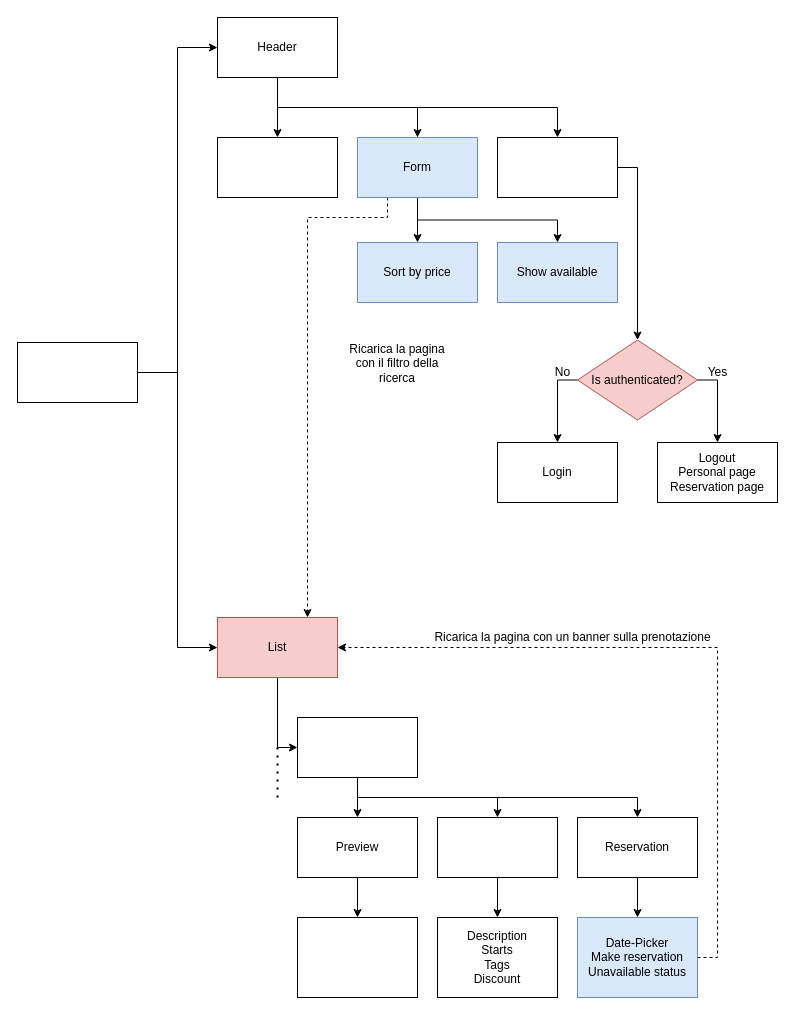
Image size: 795x1015. Some labels were removed from this diagram. The shapes that lost their labels are listed below. From the top down, each one's centre as x and y in pixels, then its label:
the point at 277,167: Logo
the point at 557,167: Hamburger
the point at 77,372: Main
the point at 357,747: Card
the point at 497,847: Details
the point at 357,957: Image Title Brand Price (discounted)
